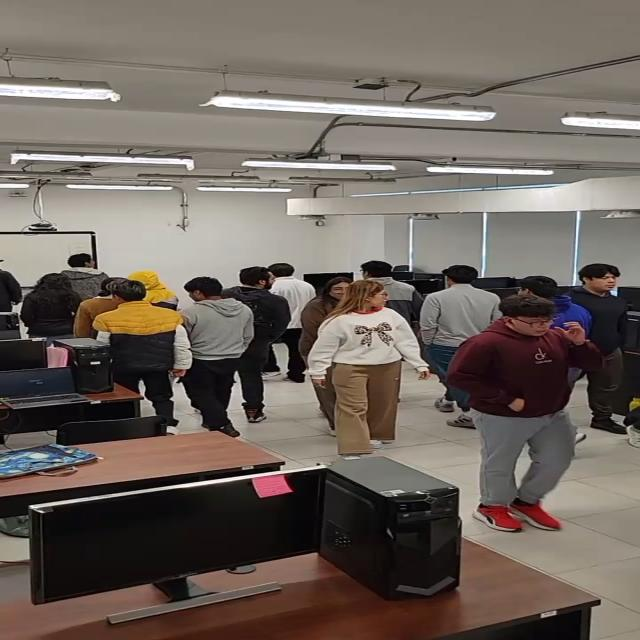Persona: (454, 292, 580, 532), (316, 278, 400, 463), (568, 257, 640, 437), (92, 277, 177, 429), (420, 260, 489, 417), (177, 272, 243, 433), (234, 264, 287, 428), (23, 272, 70, 346)
